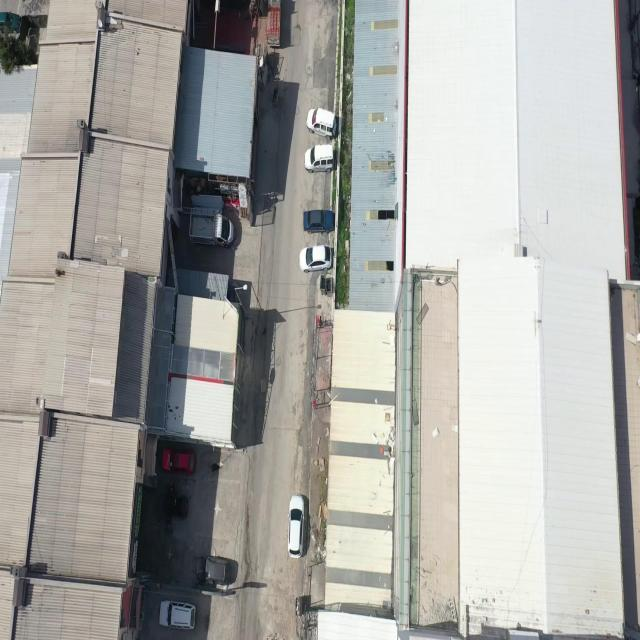p3rson: (166, 517, 172, 527)
